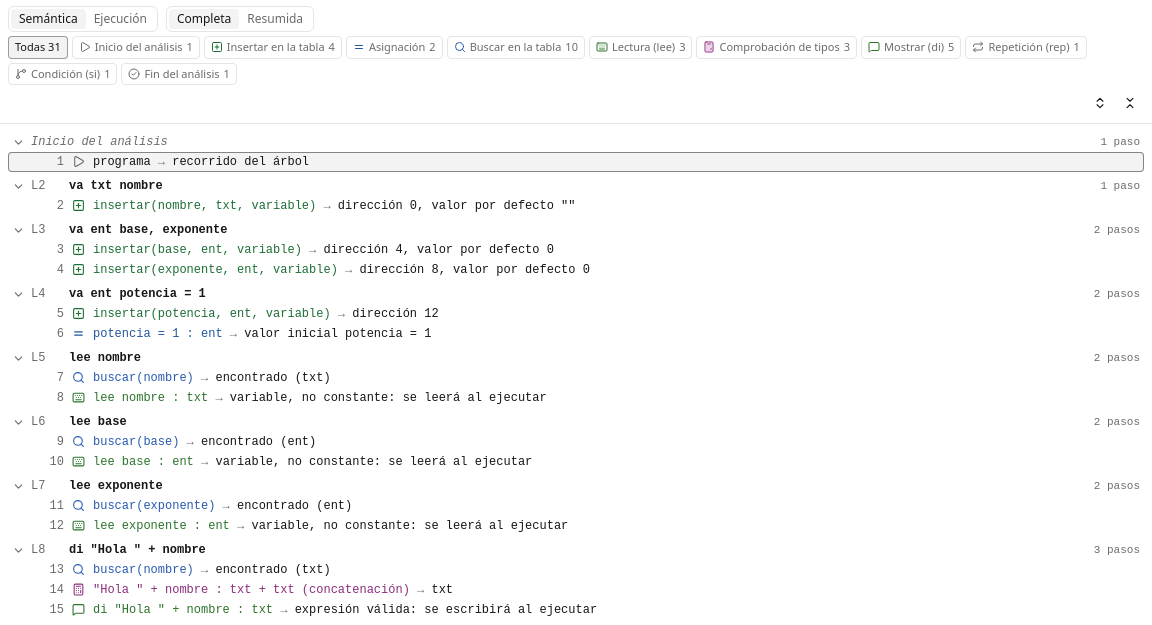
Test: trazas más claras › la traza resumida quita las búsquedas de la lista y de los controles
Click the button "Resumida" at (275, 19), box [239,9,311,29]
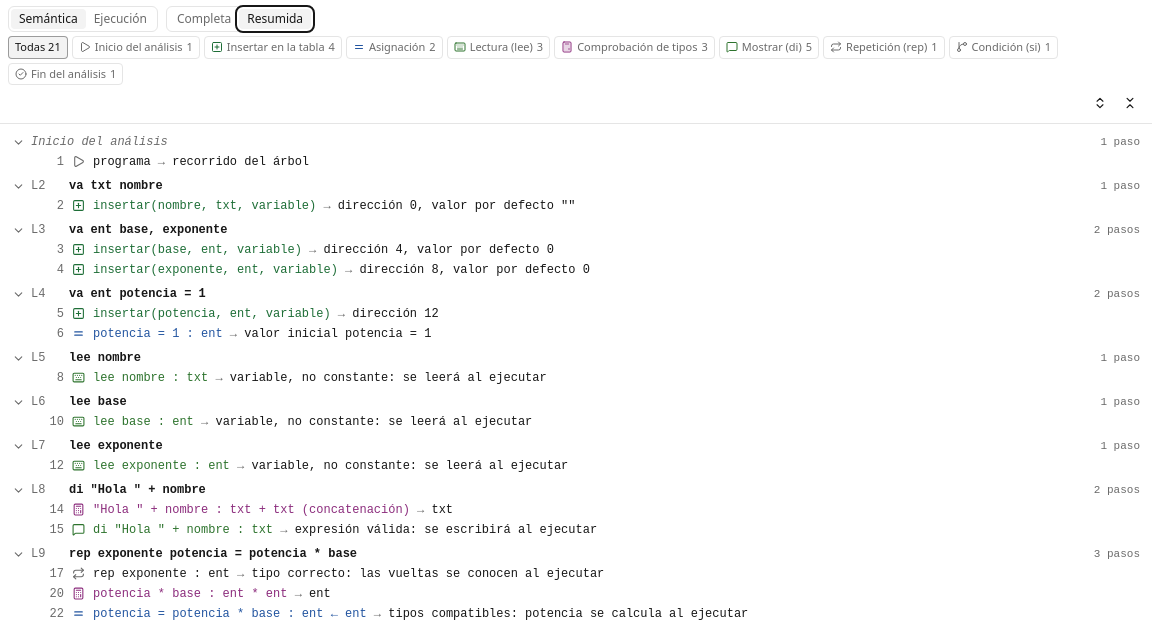
Expected: the button "Todas 21" is shown, [8,36,68,58]
Expected: the button "Buscar en la tabla" is gone
